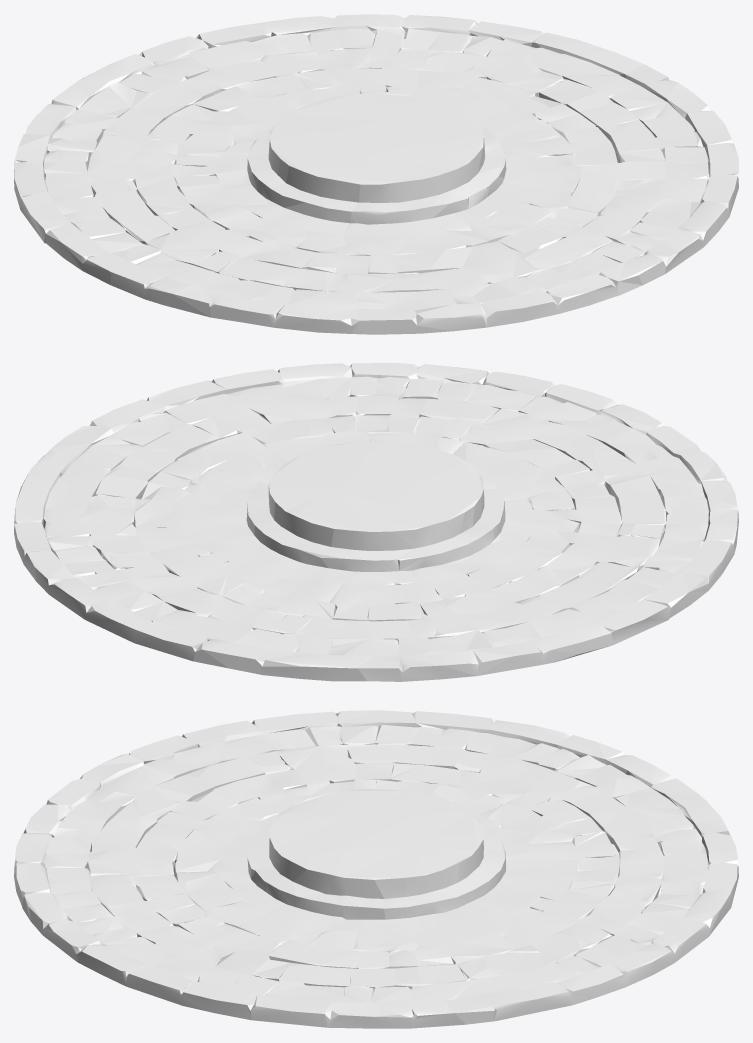
File: plaza_disc.glb
The picture shows the model from 3 angles, top to bottom: view 1: azimuth 30°, elevation 25°; view 2: azimuth 150°, elevation 25°; view 3: azimuth 270°, elevation 25°; orthographic projection.
Parts seen in each view (by area): view 1: Mesh_0; view 2: Mesh_0; view 3: Mesh_0.
Boxes of the visible parts, x1,y1,x2,y2 form: Mesh_0: (14, 14, 738, 334); Mesh_0: (14, 363, 738, 681); Mesh_0: (14, 710, 738, 1028).
Size of the model in its own units: 13 by 1.02 by 13.03.
Materials: 1 (1 with a texture image).
